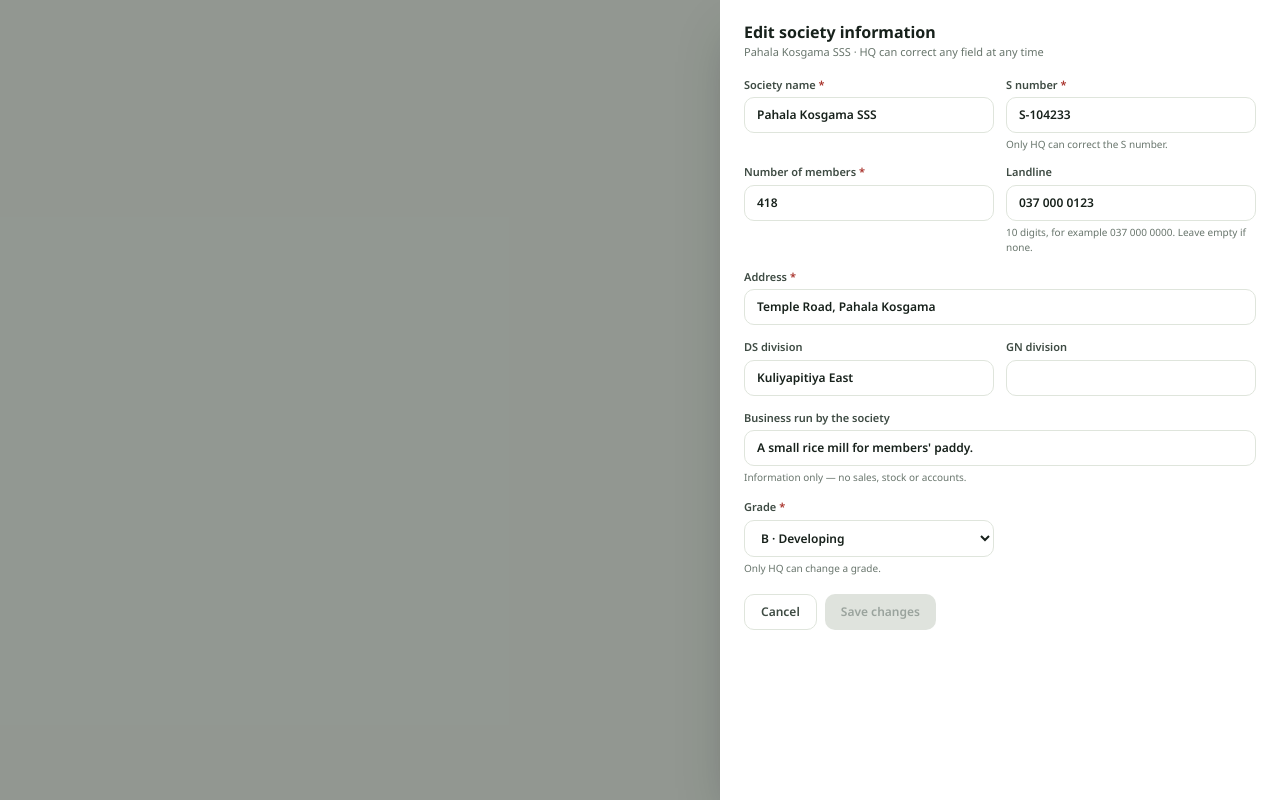
Test case: D05e HQ edit society information › keeps Save disabled until a direct grade change has a reason
The image size is (1280, 800).
Check: the button "Save changes" is disabled, box 825,594 -> 936,630
Select "A · Strong" in the dropdown labelled "Grade * Only HQ can change a grade.". click: (869, 538)
box: 744,520 -> 994,556
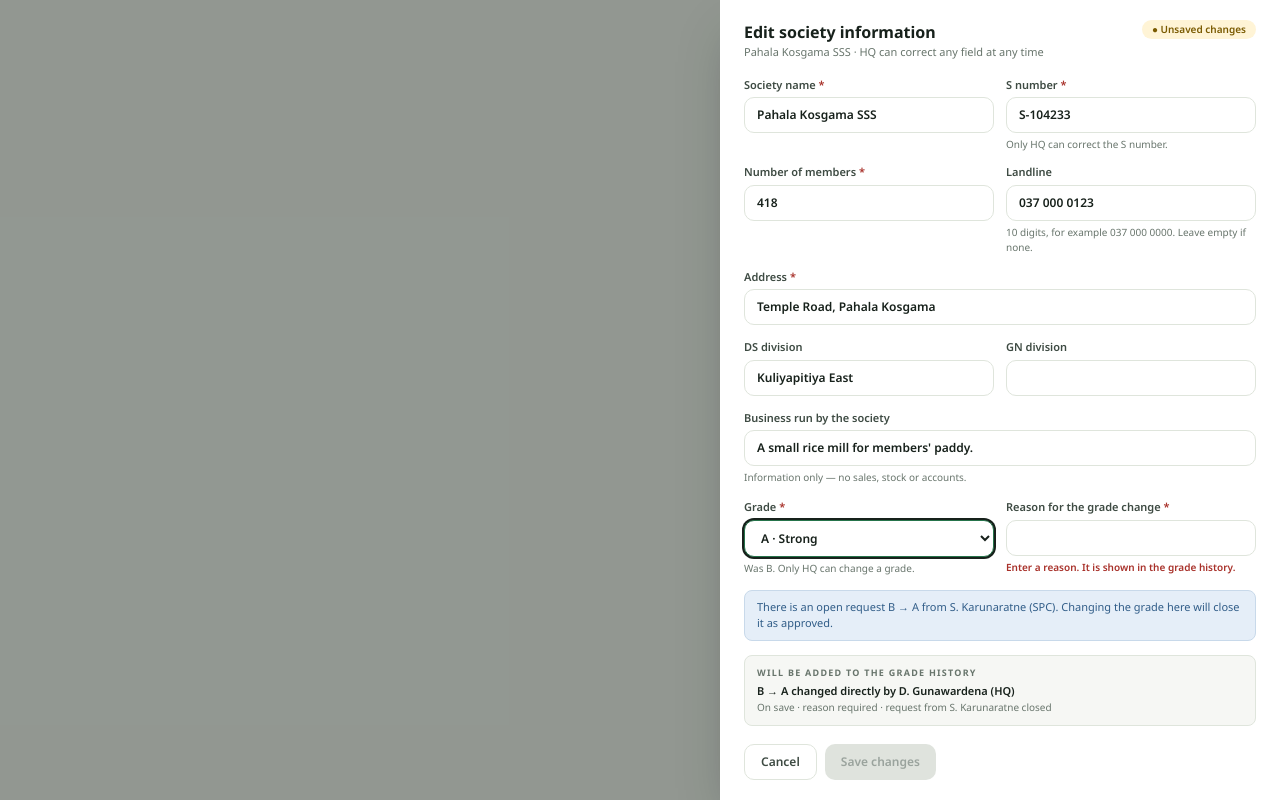
Check: the text "● Unsaved changes" is shown, box 1142,20 -> 1256,39
Check: the text "Enter a reason. It is shown in the grade history." is shown, box 1006,560 -> 1256,574
Check: the text "Changing the grade here will close it as approved" is shown, box 744,590 -> 1256,640
Type "Audit complete and Exco reformed" into the field labelled "Reason for the grade change". click: (1131, 538)
box: 1006,520 -> 1256,556
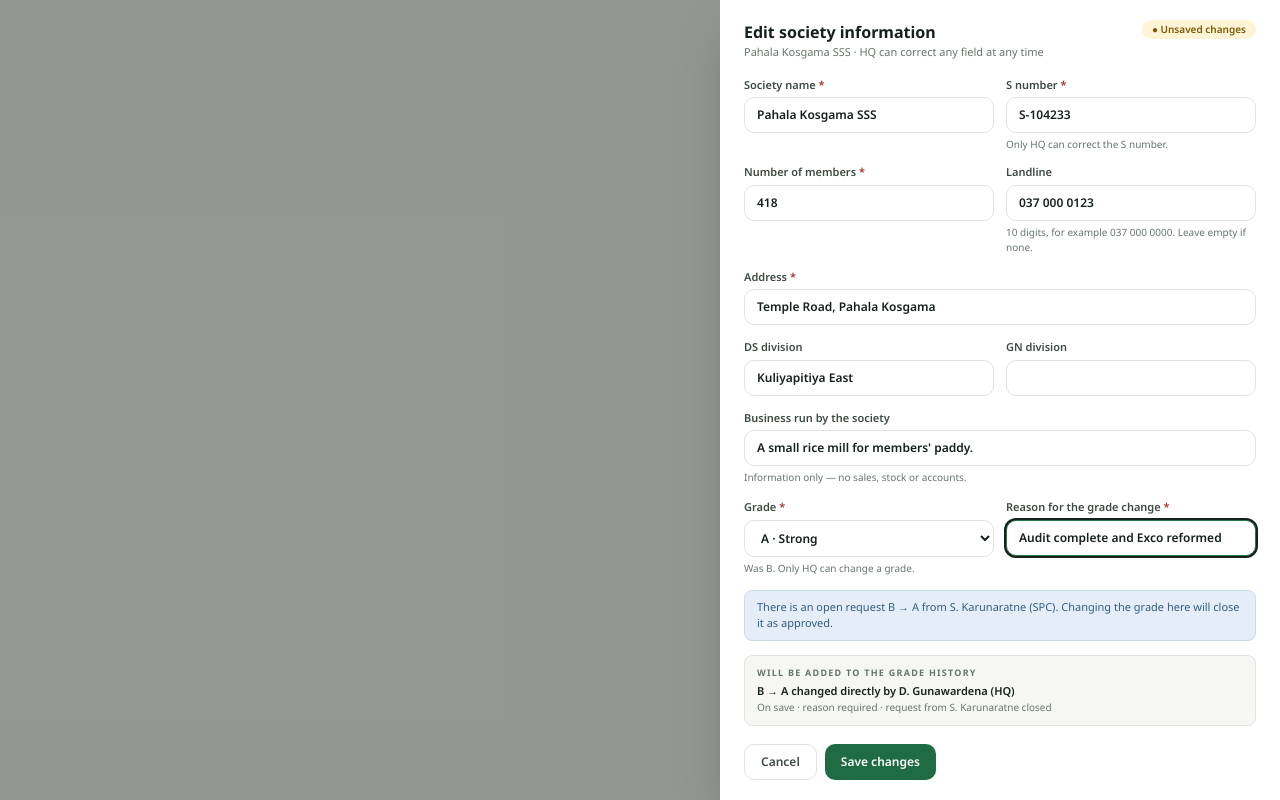
Check: the button "Save changes" is enabled, box 825,744 -> 936,780
